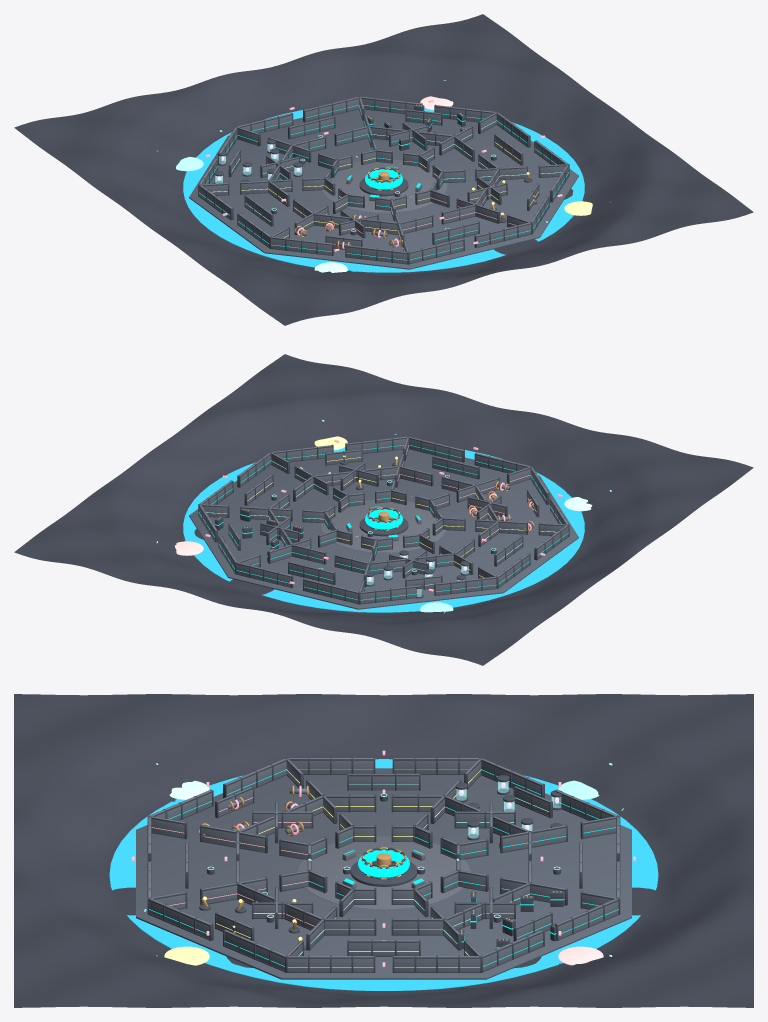
The model's file is Map2_Yeralti_Kuantum_Labirenti_5v5v5v5.glb.
The picture shows the model from 3 angles, top to bottom: view 1: azimuth 30°, elevation 25°; view 2: azimuth 150°, elevation 25°; view 3: azimuth 270°, elevation 25°; orthographic projection. The views are drawn at different scales.
Visible parts, largest first — view 1: Subterranean_Cavern_Terrain, Lab_Main_Titanium_Deck, Subterranean_Coolant_Pool, Central_Reactor_Deck, Bulkhead_14, Bulkhead_15, Bulkhead_18, Bulkhead_17, Bulkhead_5, Bulkhead_3; view 2: Subterranean_Cavern_Terrain, Lab_Main_Titanium_Deck, Subterranean_Coolant_Pool, Central_Reactor_Deck, Bulkhead_9, Bulkhead_8, Bulkhead_5, Bulkhead_6, Bulkhead_18, Bulkhead_20, Bulkhead_21; view 3: Subterranean_Cavern_Terrain, Lab_Main_Titanium_Deck, Subterranean_Coolant_Pool, Central_Reactor_Deck, Bulkhead_23, Bulkhead_24, Bulkhead_11, Bulkhead_12, Bulkhead_135, Bulkhead_136, Bulkhead_2, Bulkhead_21 (+18 smaller).
Part boxes in pixels (x1,y1,x2,y2): Subterranean_Cavern_Terrain: (14,14,753,325); Lab_Main_Titanium_Deck: (189,109,578,269); Subterranean_Coolant_Pool: (183,108,584,272); Central_Reactor_Deck: (321,159,447,212); Bulkhead_14: (271,237,331,254); Bulkhead_15: (346,245,407,263); Bulkhead_18: (476,222,531,246); Bulkhead_17: (409,239,463,262); Bulkhead_5: (305,97,358,120); Bulkhead_3: (361,96,420,112); Subterranean_Cavern_Terrain: (14,354,753,665); Lab_Main_Titanium_Deck: (189,449,578,609); Subterranean_Coolant_Pool: (183,447,584,612); Central_Reactor_Deck: (320,499,446,552); Bulkhead_9: (436,577,496,594); Bulkhead_8: (360,585,421,603); Bulkhead_5: (236,562,291,586); Bulkhead_6: (304,579,358,602); Bulkhead_18: (409,437,462,460); Bulkhead_20: (347,436,406,452); Bulkhead_21: (272,445,332,461); Subterranean_Cavern_Terrain: (14,694,753,1007); Lab_Main_Titanium_Deck: (136,768,631,979); Subterranean_Coolant_Pool: (109,759,658,990); Central_Reactor_Deck: (297,836,470,909); Bulkhead_23: (287,956,373,971); Bulkhead_24: (394,956,480,971); Bulkhead_11: (394,758,478,773); Bulkhead_12: (289,758,373,773); Bulkhead_135: (349,940,418,955); Bulkhead_136: (349,774,418,788); Bulkhead_2: (482,930,543,970); Bulkhead_21: (224,930,285,970).
Bounding box in the file's own units: 124 × 5.2 × 124.
